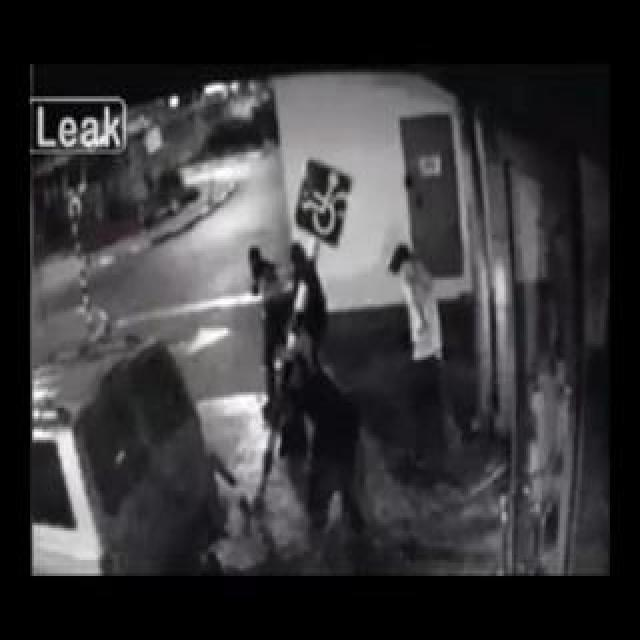thief: (238, 215, 324, 320), (258, 342, 349, 417), (374, 228, 426, 314)
